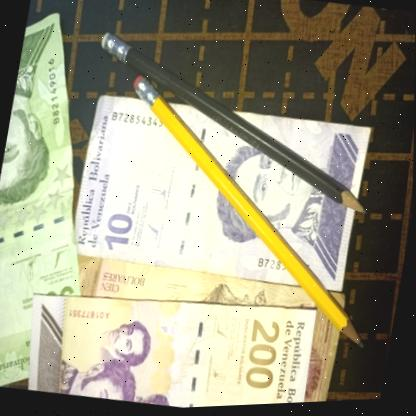fifty-front-vef: (0, 4, 129, 396)
ten-front-vef: (66, 83, 371, 305)
two_hundred-front-vef: (15, 266, 322, 415)
